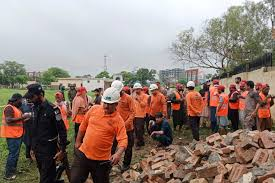arm: (49, 102, 67, 163), (109, 118, 129, 168), (73, 106, 92, 154), (3, 106, 31, 123), (124, 96, 136, 131), (160, 93, 168, 118), (183, 92, 190, 117), (215, 93, 223, 114)
face: (102, 99, 118, 112), (29, 89, 42, 103), (150, 87, 158, 94)
footwear: (1, 169, 17, 180), (192, 134, 200, 141), (211, 127, 218, 133)
glove: (53, 148, 66, 163), (26, 146, 36, 161)
helmet: (100, 84, 123, 105), (24, 80, 44, 97), (131, 79, 143, 89), (185, 78, 196, 88), (148, 81, 159, 91), (216, 83, 225, 91)
human: (72, 83, 129, 179), (23, 79, 65, 180), (1, 87, 29, 180), (125, 77, 149, 148), (145, 79, 171, 140), (182, 77, 205, 141), (206, 76, 222, 131), (254, 85, 272, 130), (227, 80, 241, 131), (169, 80, 183, 130)
leg: (1, 137, 20, 180), (37, 149, 58, 182), (68, 155, 90, 182), (93, 158, 112, 181), (190, 114, 201, 141), (162, 118, 173, 141), (211, 113, 220, 133), (236, 109, 244, 129), (230, 109, 237, 131), (219, 114, 227, 133), (263, 116, 271, 130), (256, 116, 263, 131)
noglove: (109, 150, 124, 165), (53, 147, 66, 163), (72, 146, 84, 160), (21, 110, 32, 121)
nogoggle: (29, 91, 41, 97)
nohelmet: (24, 80, 44, 97), (7, 91, 21, 102)
vest: (78, 105, 122, 159), (29, 100, 56, 154), (1, 102, 25, 137), (186, 89, 202, 115), (133, 92, 147, 117), (149, 91, 164, 114), (217, 92, 228, 114), (208, 85, 219, 107), (170, 91, 181, 110), (228, 90, 239, 109), (257, 103, 269, 117), (237, 97, 245, 110)
